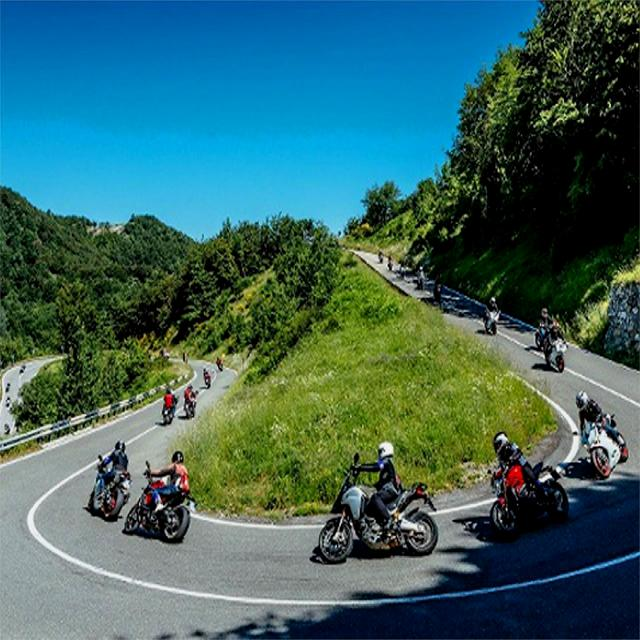MOTORCYCLE: (320, 471, 435, 557), (460, 453, 568, 538), (126, 450, 192, 544), (585, 416, 624, 475), (94, 456, 127, 514), (538, 323, 566, 372), (162, 396, 177, 427), (485, 301, 497, 333), (183, 390, 196, 416)
